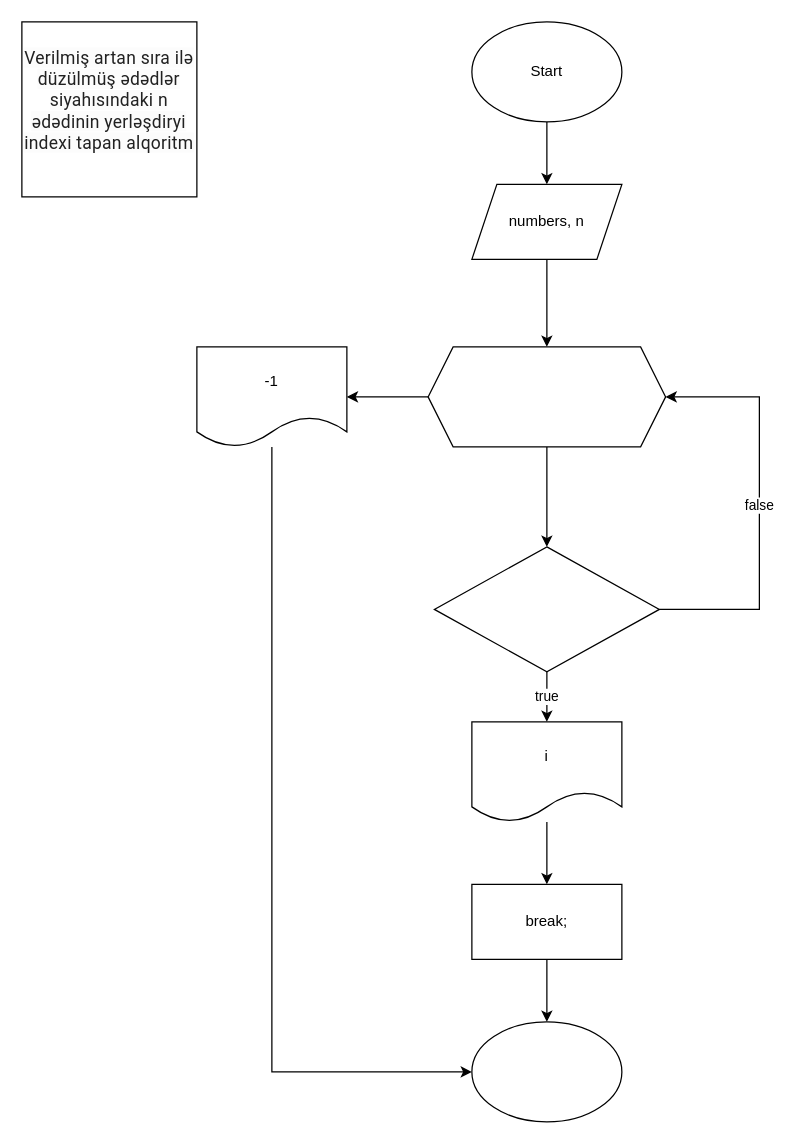
Some shapes in this 795 by 1144 pixel diagram are drawn without their labels. The shapes that lost their labels are listed below. From the top down, each one's box as (x1, y1, x2, y2) in pixels, then its label:
(427, 346, 666, 447): i = 0; i < numbers.length; i++
(433, 546, 659, 672): numbers[i] == n
(471, 1021, 622, 1122): End
